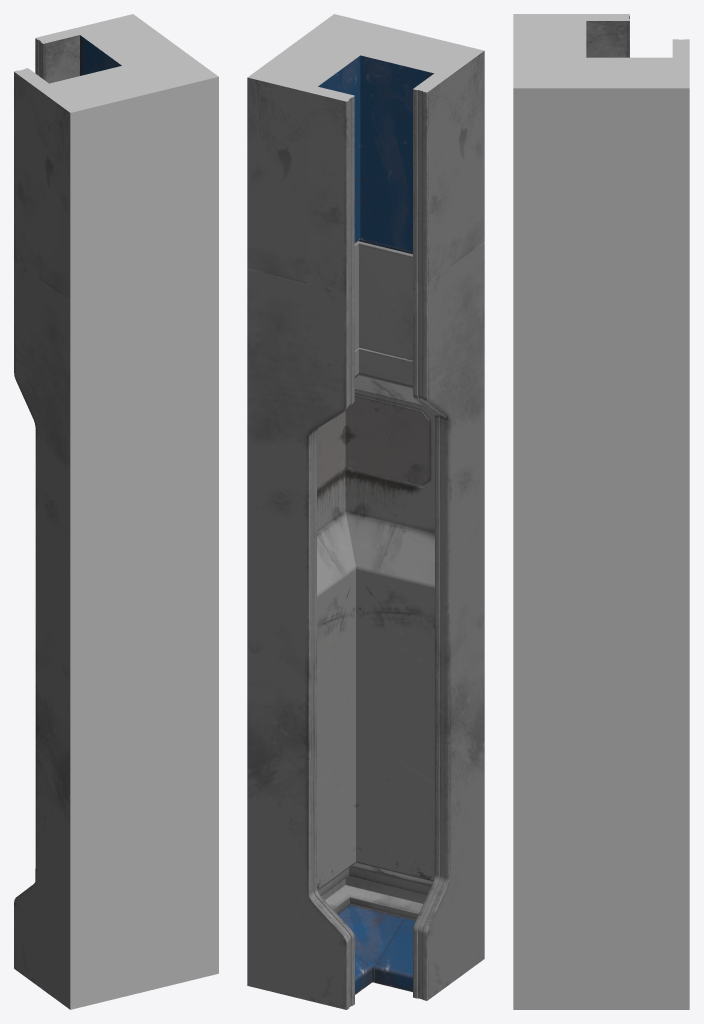
The model's file is SM_CorridorWall03_bigCorner.fbx.
The picture shows the model from 3 angles, left to right: view 1: azimuth 30°, elevation 25°; view 2: azimuth 150°, elevation 25°; view 3: azimuth 270°, elevation 25°; orthographic projection. The views are drawn at different scales.
Parts seen in each view (by area): view 1: SM_CorridorWall03_bigCorner_LOD0; view 2: SM_CorridorWall03_bigCorner_LOD0; view 3: SM_CorridorWall03_bigCorner_LOD0.
Part boxes in pixels (bbox=[...]): SM_CorridorWall03_bigCorner_LOD0: bbox=[14, 14, 218, 1009]; SM_CorridorWall03_bigCorner_LOD0: bbox=[247, 14, 484, 1009]; SM_CorridorWall03_bigCorner_LOD0: bbox=[513, 14, 689, 1009].
Bounding box in the file's own units: 83.71 × 83.71 × 483.
3 materials, 2 textured.
